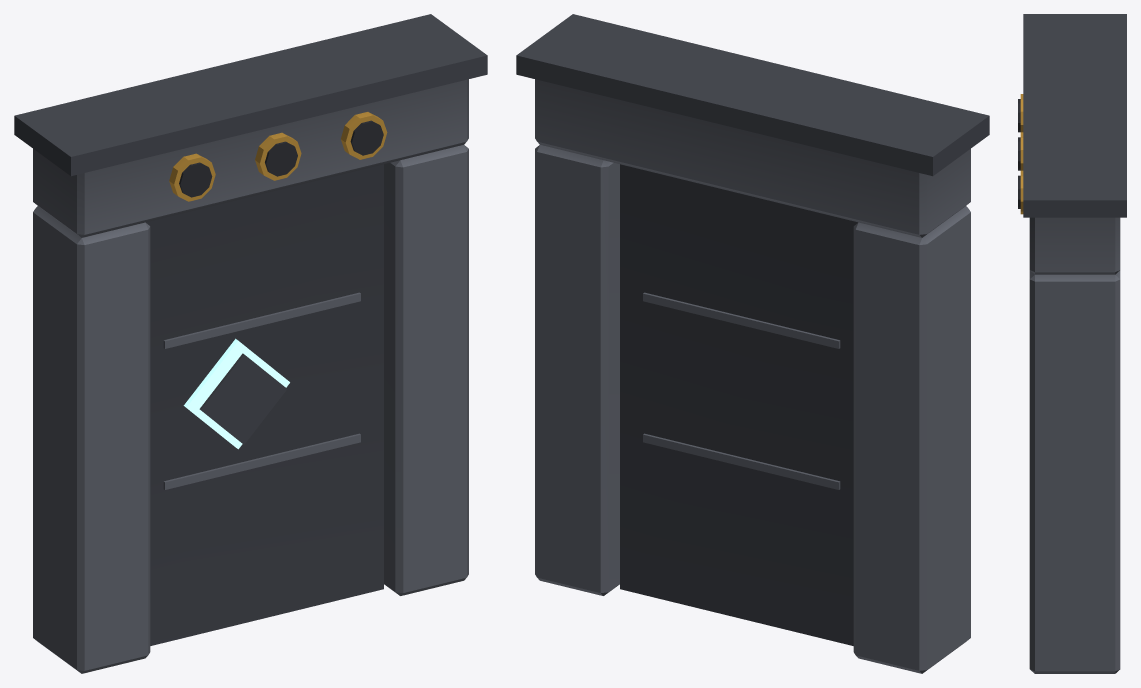
The model's file is rune_door.glb.
3 renders of one model, left to right at view 1: azimuth 30°, elevation 25°; view 2: azimuth 150°, elevation 25°; view 3: azimuth 270°, elevation 25°, orthographic. The views are drawn at different scales.
Parts seen in each view (by area): view 1: rune_door, rune_door.slab; view 2: rune_door, rune_door.slab; view 3: rune_door.
Part boxes in pixels (<box>): rune_door: <box>14,14,487,673</box>; rune_door.slab: <box>146,164,383,645</box>; rune_door: <box>516,14,989,673</box>; rune_door.slab: <box>620,164,857,645</box>; rune_door: <box>1018,14,1126,673</box>.
Bounding box in the file's own units: 3.4 × 4.1 × 0.84.
